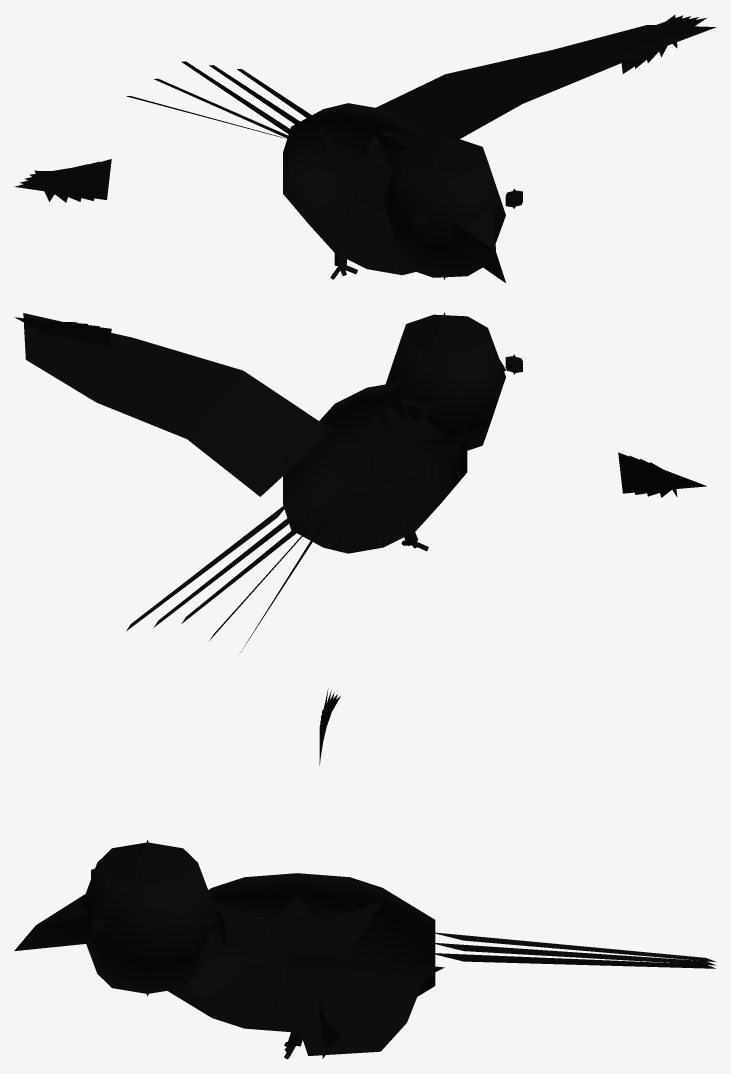
Rendered from gliding_03.glb.
3 renders of one model, top to bottom at view 1: azimuth 30°, elevation 25°; view 2: azimuth 150°, elevation 25°; view 3: azimuth 270°, elevation 25°, orthographic. The views are drawn at different scales.
Parts seen in each view (by area): view 1: RaptorBody; view 2: RaptorBody; view 3: RaptorBody.
Part boxes in pixels (x1,y1,x2,y2): RaptorBody: (14,15,716,282); RaptorBody: (14,312,706,652); RaptorBody: (14,688,716,1059).
Size of the model in its own units: 1.25 by 0.3153 by 1.01.
Materials: 7 (7 with a texture image).
